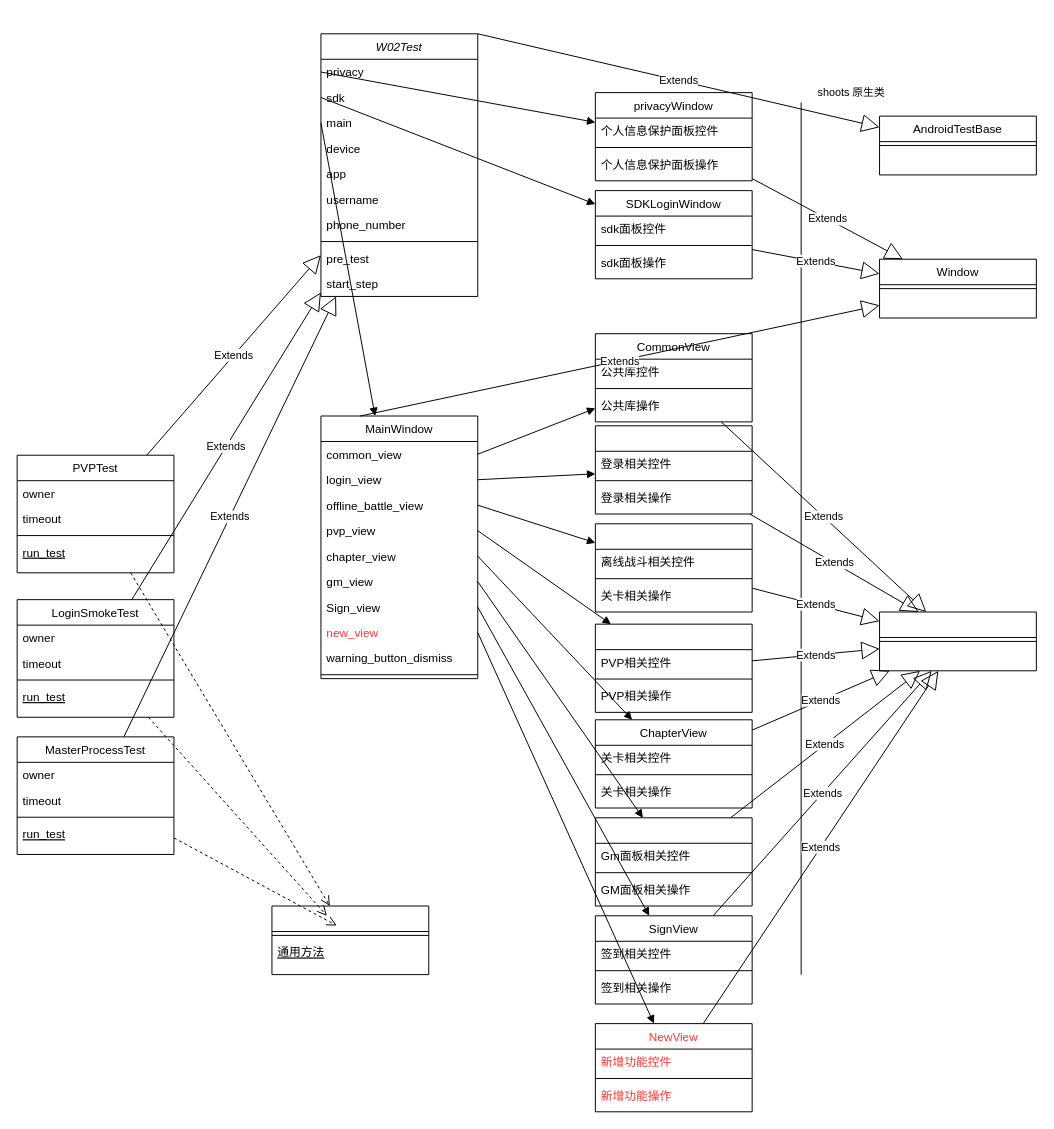
This 1054x1129 diagram has some shape labels left out. The box of each missing label's shape, as (x1, y1, x2, y2) in pixels:
common_utils.py: (271, 905, 429, 975)
GameView: (879, 611, 1036, 671)
GmView: (594, 817, 752, 906)
LoginView: (594, 425, 752, 514)
OfflineBattleView: (594, 523, 752, 612)
PVPView: (594, 623, 752, 712)
